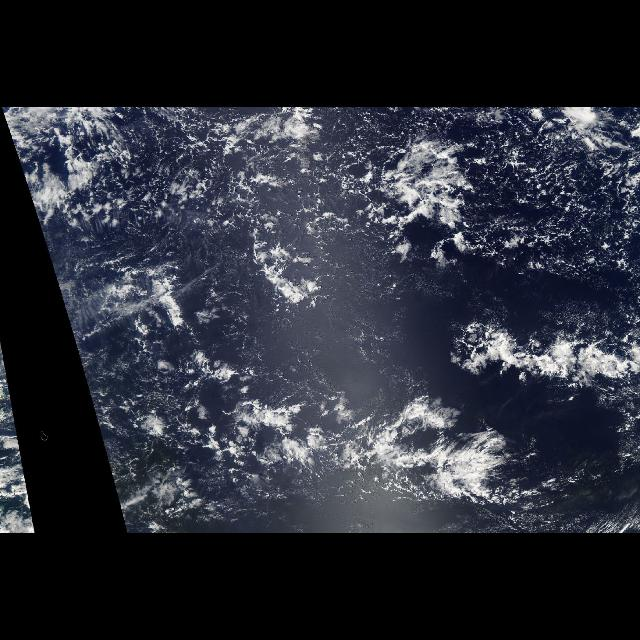Fish: (204, 359, 596, 525), (388, 136, 458, 296)
Gravel: (67, 107, 639, 293)
